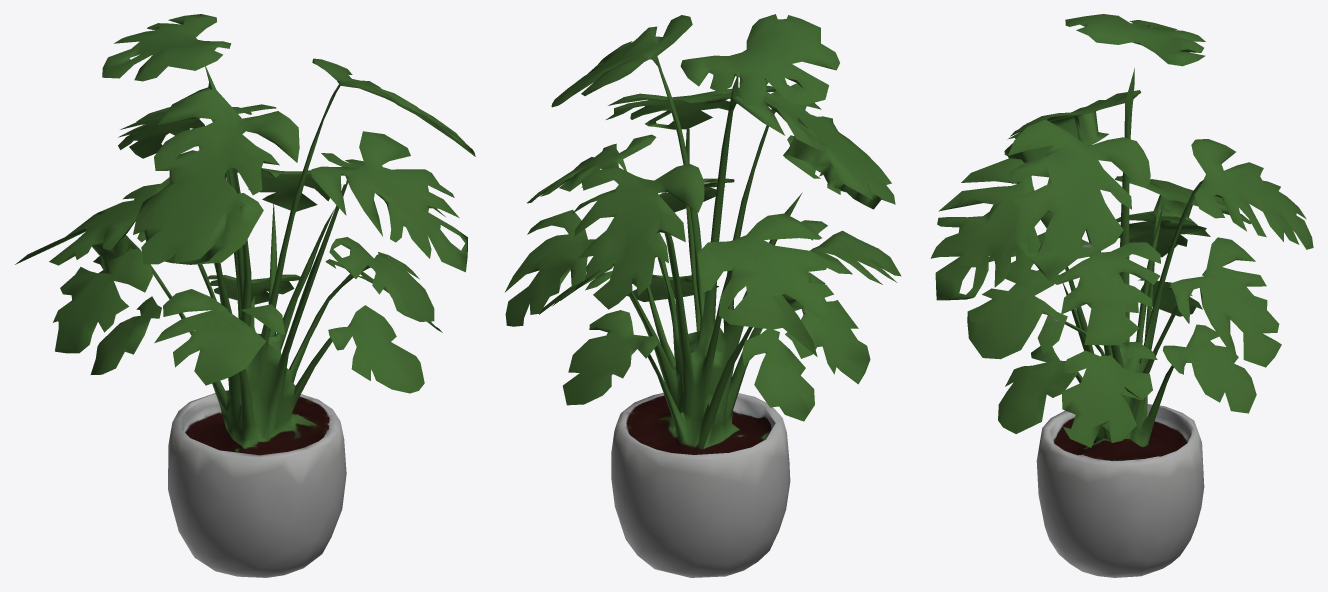
File: monstera.glb
3 renders of one model, left to right at view 1: azimuth 30°, elevation 25°; view 2: azimuth 150°, elevation 25°; view 3: azimuth 270°, elevation 25°, orthographic. The views are drawn at different scales.
Visible parts, largest first — view 1: input; view 2: input; view 3: input.
Boxes of the visible parts, bbox=[...] form: input: bbox=[15, 14, 475, 577]; input: bbox=[505, 14, 901, 577]; input: bbox=[930, 14, 1313, 577].
Size of the model in its own units: 0.4189 by 0.6 by 0.4109.
1 material, 1 textured.
